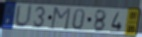0: (71, 8, 86, 31)
3: (32, 6, 47, 30)
4: (110, 11, 123, 33)
8: (93, 9, 108, 33)
M: (50, 7, 73, 32)
U: (14, 3, 34, 29)
